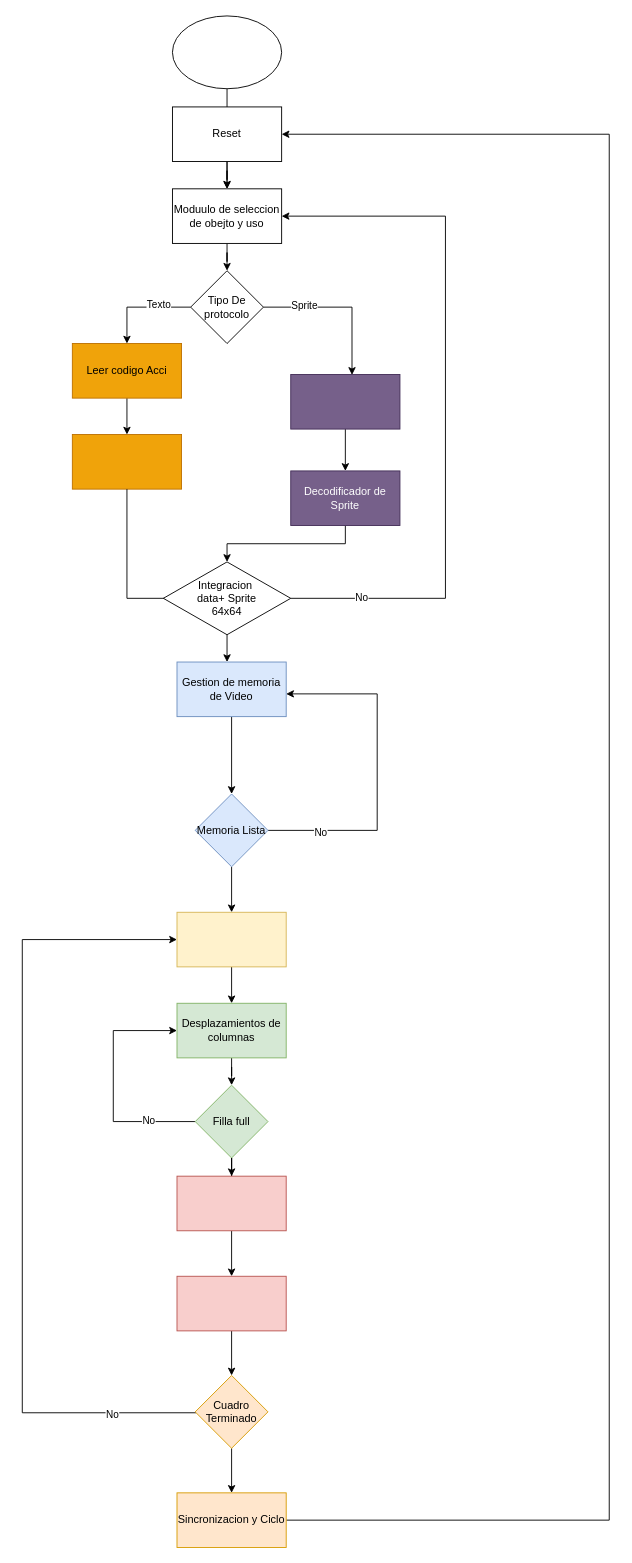
The diagram is 632 pixels wide and 1563 high, and some of its shapes have lost their labels. Each missing label, with the centre of its shape:
Cofdificar de caracter a pixeles: point 126,461
Control de Salida: point 231,1303
Estraccion y ordenamiento de datos: point 231,939
Gestor de Sprite: point 345,401
Inicio: point 227,52
Seleccion de Fila: point 231,1203
